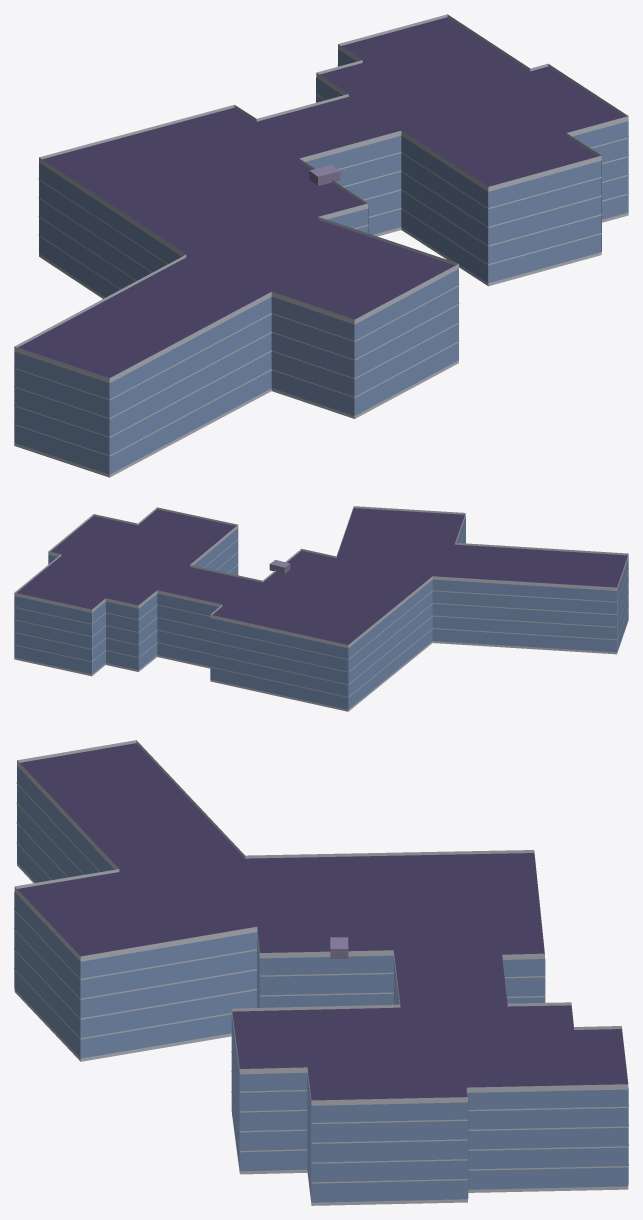
The model's file is b-017-support-services-building-day.glb.
3 views of the same model, one above another, from view 1: azimuth 30°, elevation 25°; view 2: azimuth 150°, elevation 25°; view 3: azimuth 270°, elevation 25° (orthographic). The views are drawn at different scales.
Parts seen in each view (by area): view 1: campus/b-017-support-services-building-day-0; view 2: campus/b-017-support-services-building-day-0; view 3: campus/b-017-support-services-building-day-0.
Boxes of the visible parts, box(x1,y1,x2,y2) form: campus/b-017-support-services-building-day-0: box(14, 14, 628, 477); campus/b-017-support-services-building-day-0: box(14, 506, 628, 711); campus/b-017-support-services-building-day-0: box(14, 740, 628, 1205).
Size of the model in its own units: 141 by 20.4 by 101.
